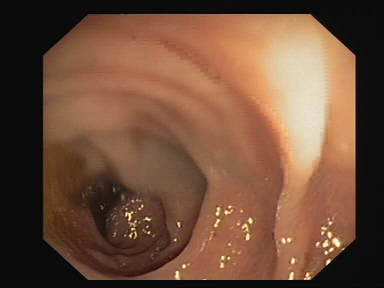polyp: (108, 194, 167, 246)
